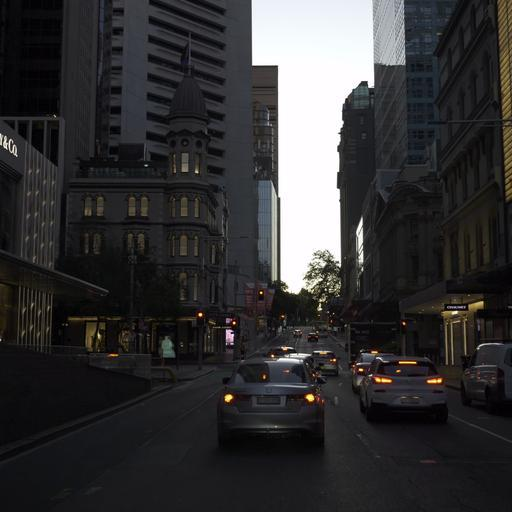Street light: (425, 115, 511, 127), (195, 309, 205, 370), (258, 288, 265, 335), (400, 318, 407, 355), (279, 312, 285, 332), (258, 288, 263, 298)
